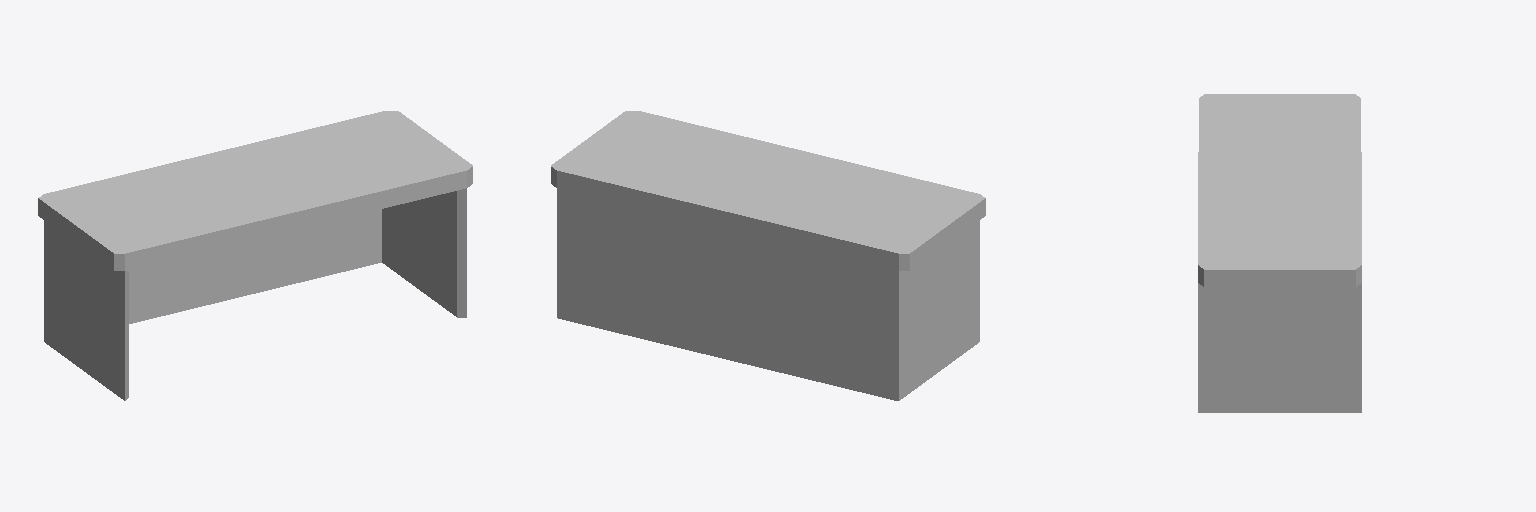
File: Desk01.obj
3 views of the same model, side by side, from view 1: azimuth 30°, elevation 25°; view 2: azimuth 150°, elevation 25°; view 3: azimuth 270°, elevation 25° (orthographic).
Parts seen in each view (by area): view 1: Desk_Cube.001; view 2: Desk_Cube.001; view 3: Desk_Cube.001.
Part boxes in pixels (left/top/right/bottom): Desk_Cube.001: left=38, top=111, right=472, bottom=400; Desk_Cube.001: left=551, top=111, right=985, bottom=400; Desk_Cube.001: left=1198, top=94, right=1361, bottom=412.
Bounding box in the file's own units: 10.56 × 4.15 × 4.16.